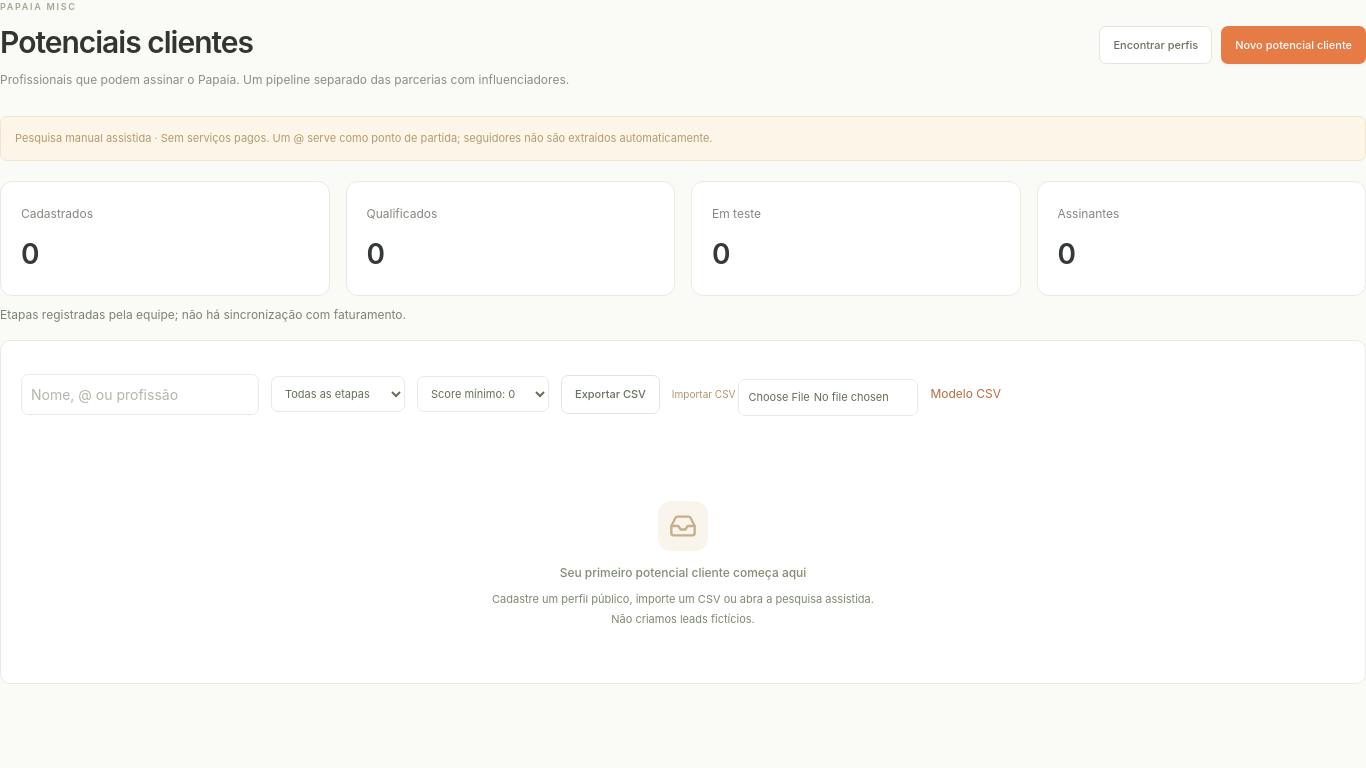
prepara pesquisa pública sem apresentar extração automática
The image size is (1366, 768).
Click the button "Encontrar perfis" at point(1156, 45), box x1=1099 y1=26 x2=1212 y2=64
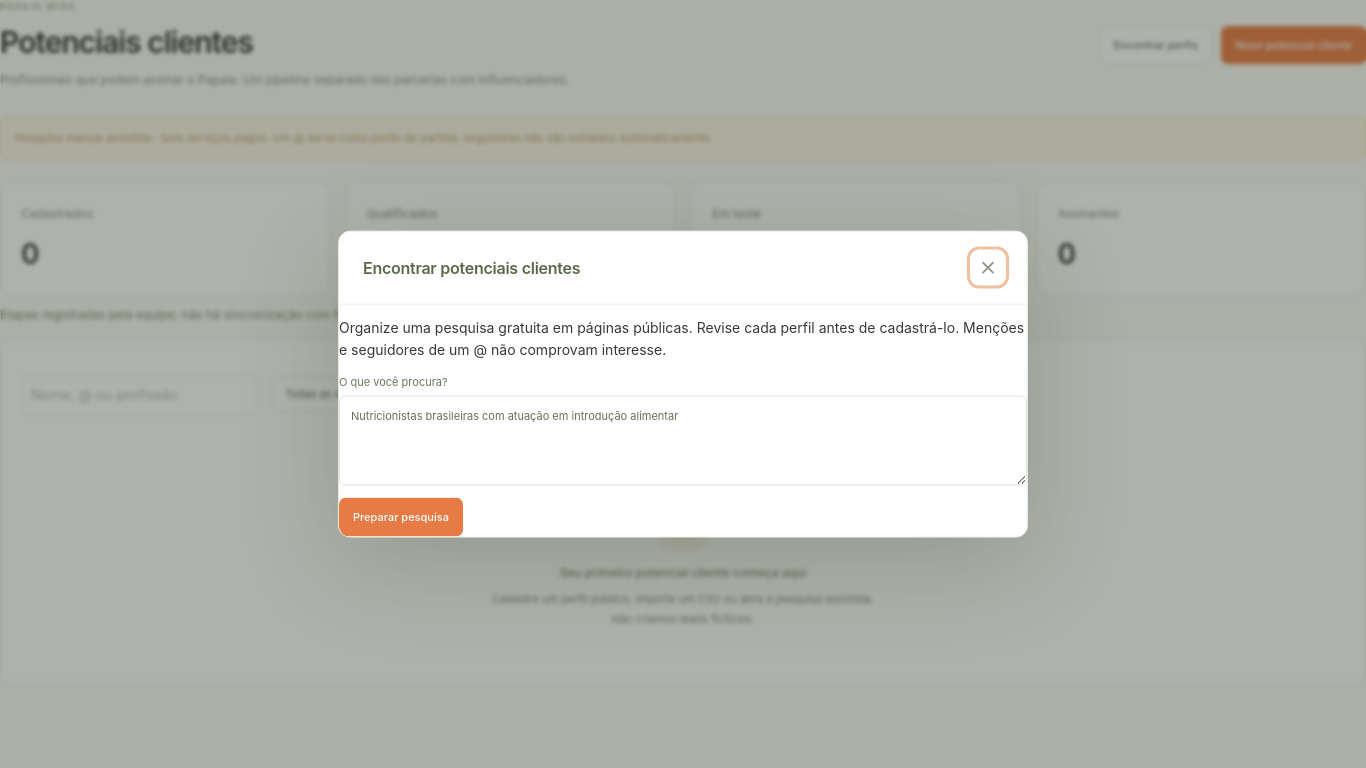
Click the button "Preparar pesquisa" at point(401, 517), box x1=339 y1=498 x2=463 y2=536
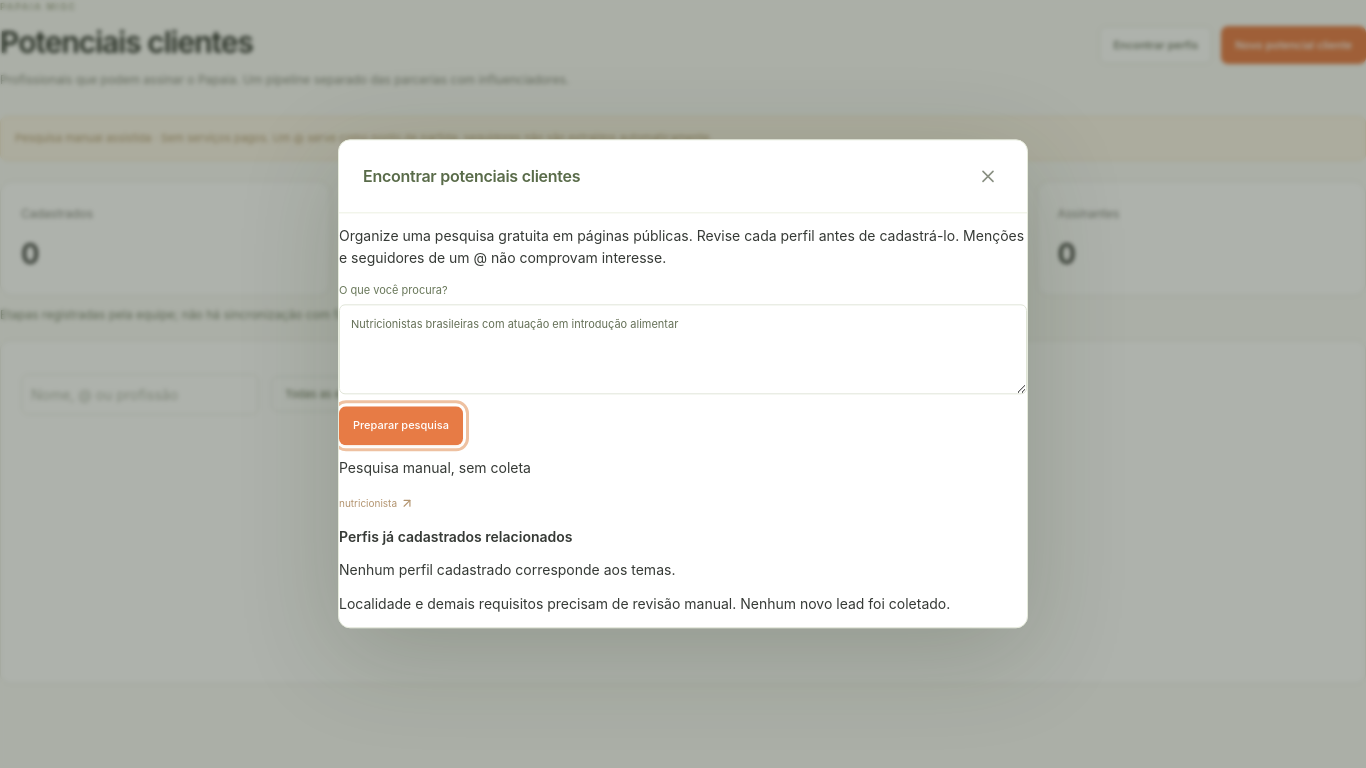
Expected: the text "Pesquisa manual, sem coleta" is shown, x1=339 y1=459 x2=531 y2=476
